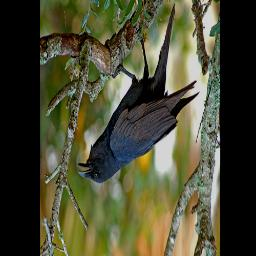Crow: (76, 1, 201, 184)
